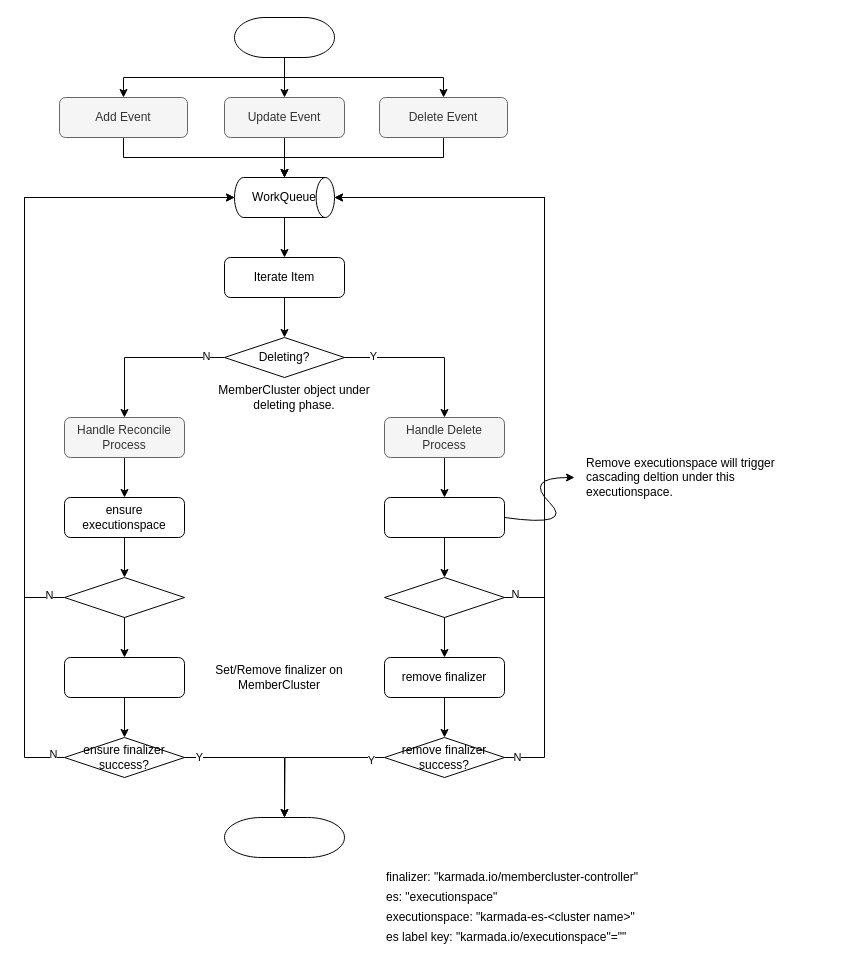
This 842x965 diagram has some shape labels left out. The shapes that lost their labels are listed below. From the top down, each one's box as (x1, y1, x2, y2) in pixels, then its label:
(234, 16, 334, 58): Informer
(384, 496, 504, 538): remove executionspace
(64, 576, 184, 618): ensure es success?
(384, 576, 504, 618): remove es success?
(64, 656, 184, 698): ensure finalizer
(224, 816, 344, 858): Iteration Done
